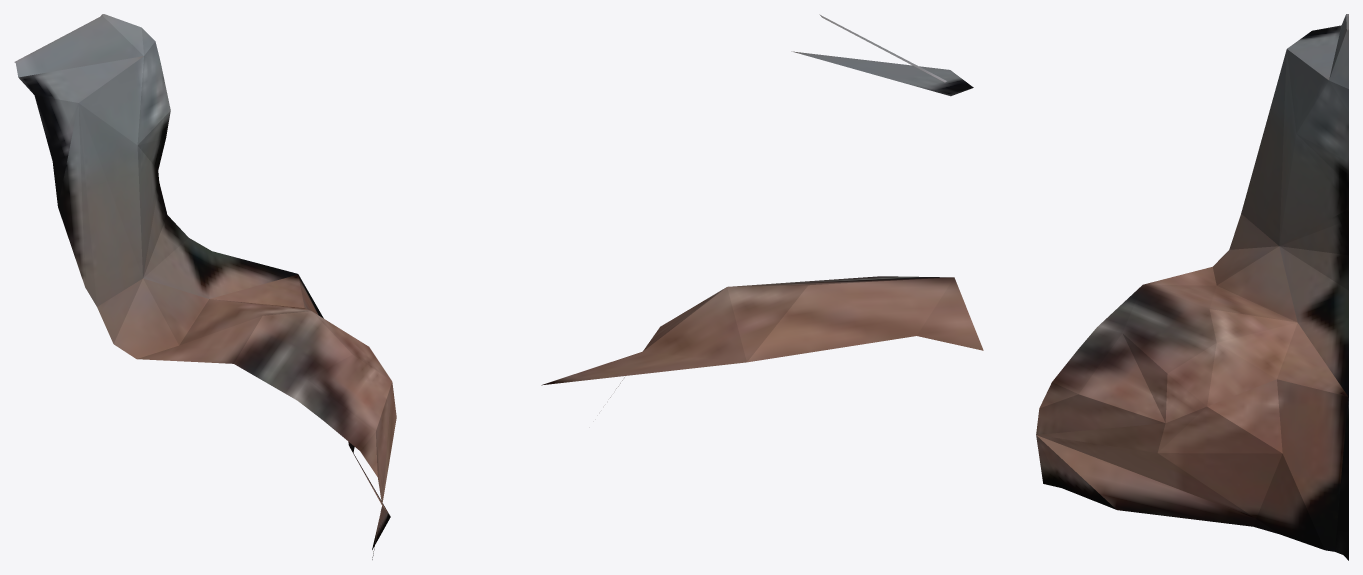
3 views of the same model, side by side, from view 1: azimuth 30°, elevation 25°; view 2: azimuth 150°, elevation 25°; view 3: azimuth 270°, elevation 25° (orthographic). The views are drawn at different scales.
Size of the model in its own units: 1.99 by 2.34 by 1.62.
Materials: 1 (1 with a texture image).
